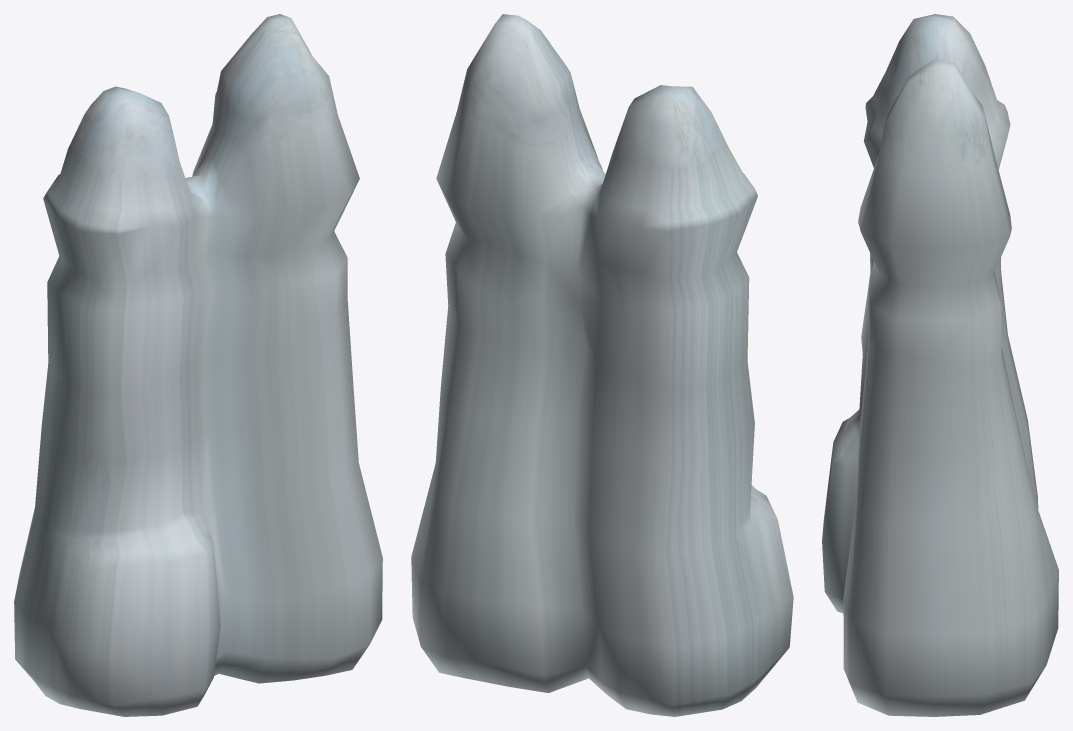
File: P_RockDesert_HoodooCliff06.obj
3 renders of one model, left to right at view 1: azimuth 30°, elevation 25°; view 2: azimuth 150°, elevation 25°; view 3: azimuth 270°, elevation 25°, orthographic.
Size of the model in its own units: 32.52 by 60.82 by 20.61.
